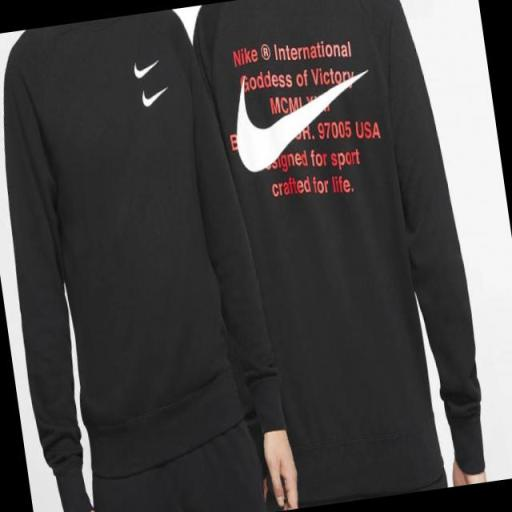Nike: (229, 70, 383, 179)
